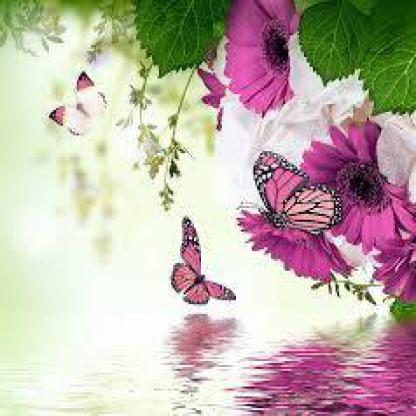Kenanga: (128, 108, 364, 367)
